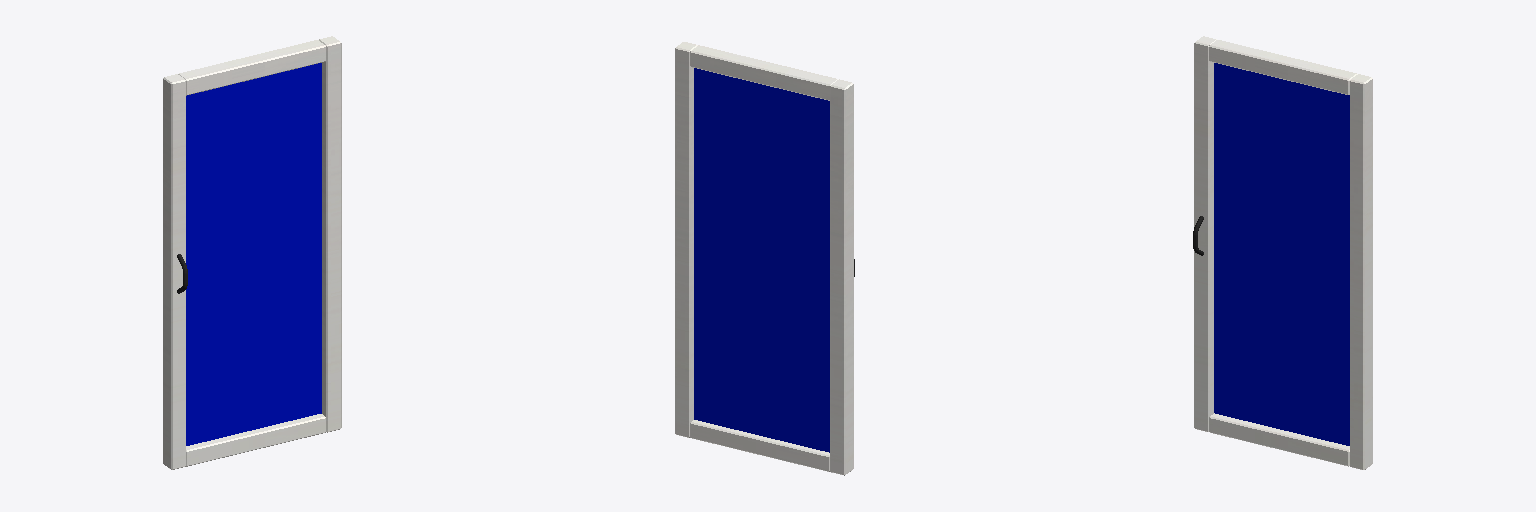
3 views of the same model, side by side, from view 1: azimuth 30°, elevation 25°; view 2: azimuth 150°, elevation 25°; view 3: azimuth 330°, elevation 25° (orthographic).
Visible parts, largest first — view 1: dsadw, w66; view 2: dsadw, w66; view 3: dsadw, w66.
Boxes of the visible parts, <box> form: dsadw: <box>186,63,321,445</box>; w66: <box>163,36,341,469</box>; dsadw: <box>694,68,829,452</box>; w66: <box>675,42,853,475</box>; dsadw: <box>1214,63,1349,445</box>; w66: <box>1194,36,1372,469</box>.
Size of the model in its own units: 438 by 950 by 72.94.
Materials: 3 (1 with a texture image).